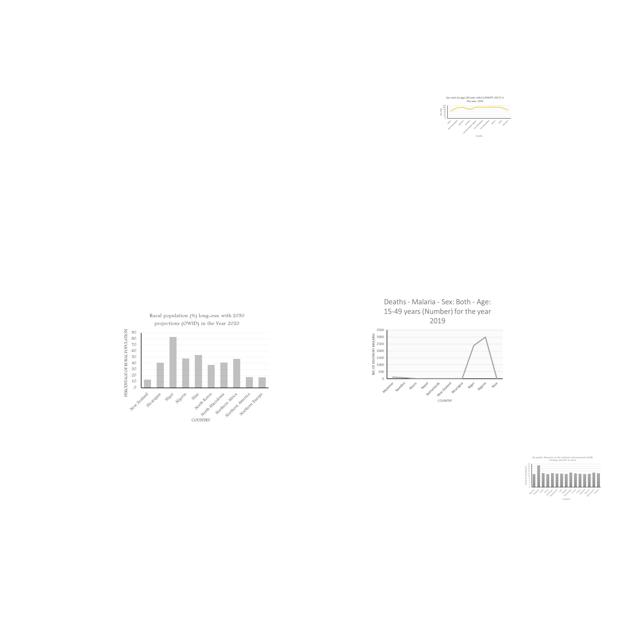Graph: (120, 310, 271, 424), (369, 296, 506, 404), (523, 455, 603, 502), (438, 95, 512, 139)
